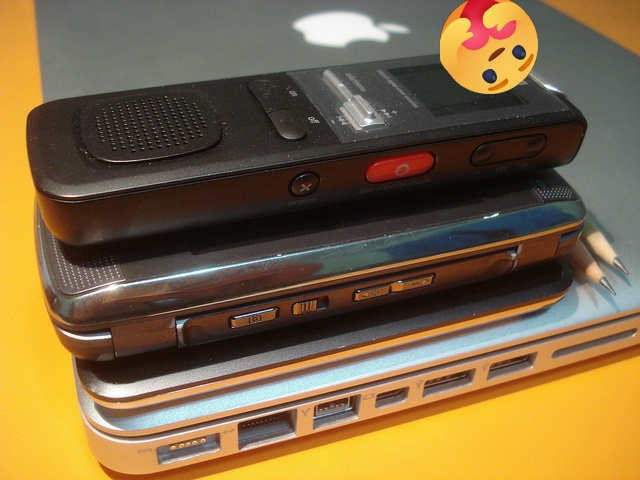care: (440, 0, 538, 94)
